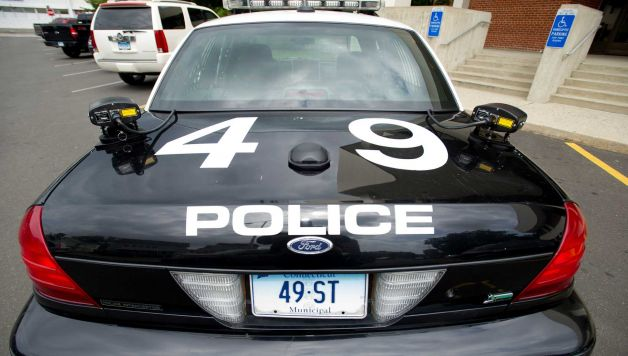license plate: (247, 271, 371, 320)
